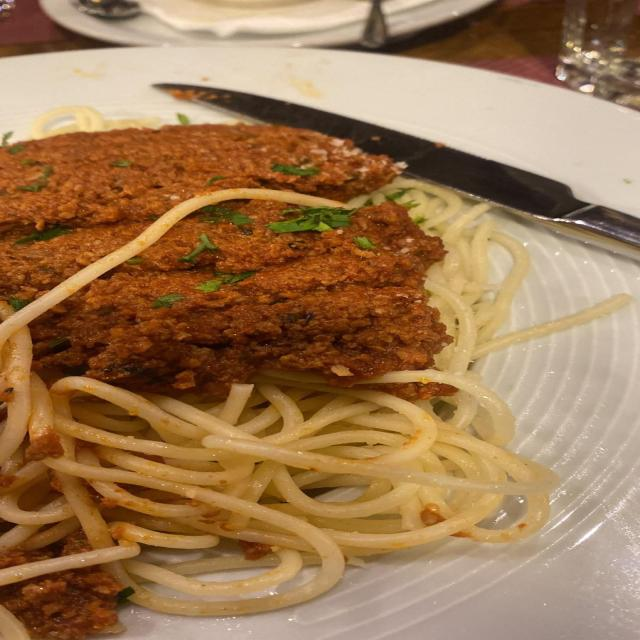knife: (154, 84, 639, 252)
minced meat: (30, 198, 450, 395), (0, 124, 400, 322)
plate: (0, 48, 639, 640)
spaghetti: (0, 188, 621, 615)
